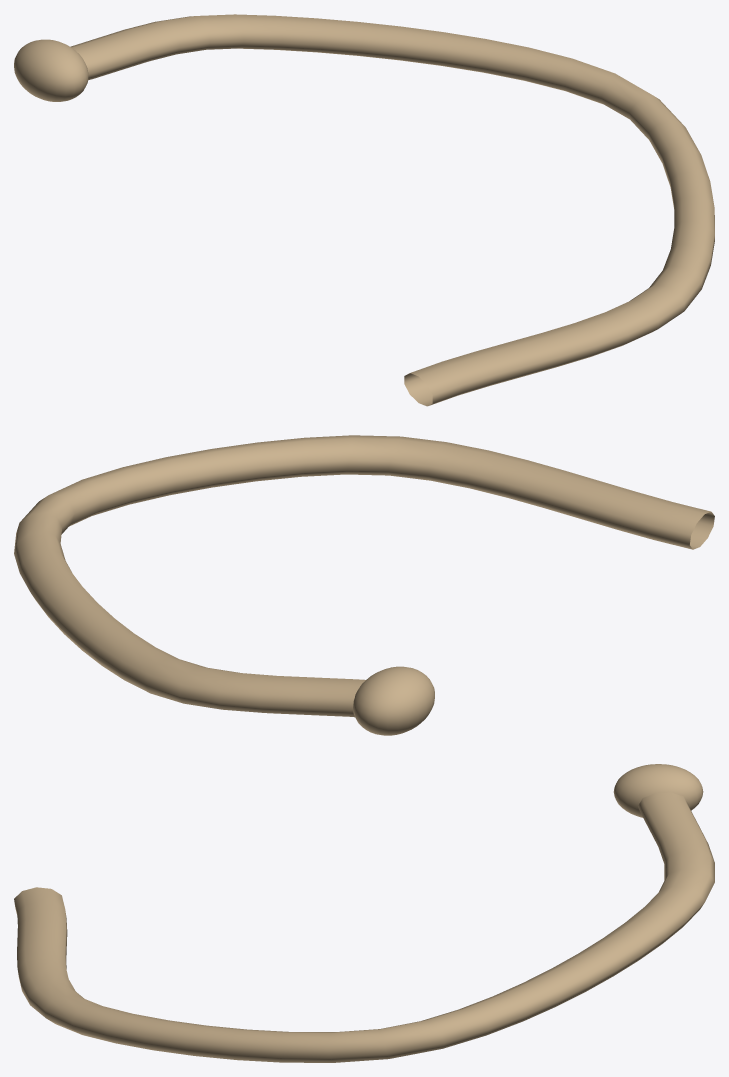
The model's file is left_rib_2.glb.
3 views of the same model, one above another, from view 1: azimuth 30°, elevation 25°; view 2: azimuth 150°, elevation 25°; view 3: azimuth 270°, elevation 25° (orthographic). The views are drawn at different scales.
Parts seen in each view (by area): view 1: left_rib_2:costal-body, left_rib_2:head; view 2: left_rib_2:costal-body, left_rib_2:head; view 3: left_rib_2:costal-body, left_rib_2:head.
Boxes of the visible parts, x1,y1,x2,y2 form: left_rib_2:costal-body: [70, 14, 714, 406]; left_rib_2:head: [14, 39, 88, 101]; left_rib_2:costal-body: [14, 435, 714, 717]; left_rib_2:head: [353, 666, 434, 735]; left_rib_2:costal-body: [14, 792, 714, 1062]; left_rib_2:head: [613, 764, 703, 817].
Size of the model in its own units: 0.4718 by 0.1206 by 0.603.
